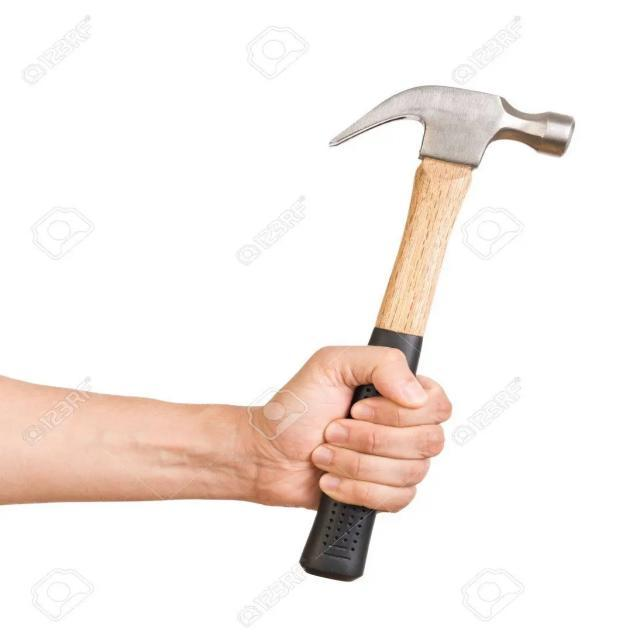hammer: (292, 79, 584, 596)
